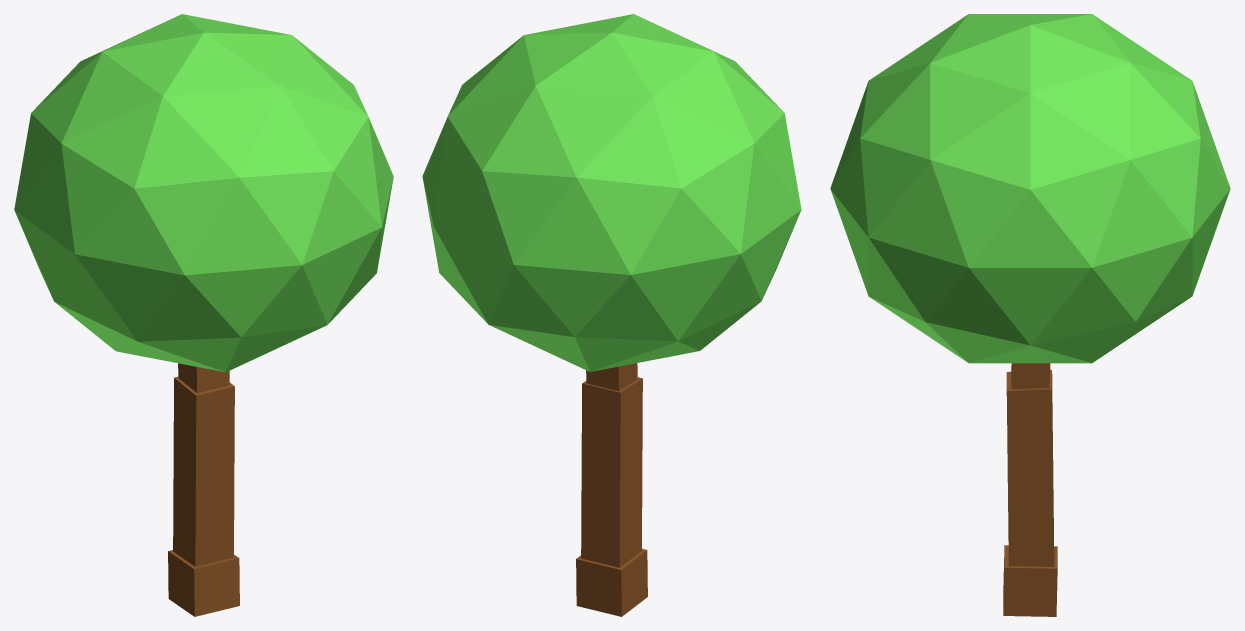
File: Tree2.fbx
3 views of the same model, side by side, from view 1: azimuth 30°, elevation 25°; view 2: azimuth 150°, elevation 25°; view 3: azimuth 270°, elevation 25° (orthographic).
Visible parts, largest first — view 1: Tree2; view 2: Tree2; view 3: Tree2.
Boxes of the visible parts, x1,y1,x2,y2 form: Tree2: (14, 14, 393, 616); Tree2: (422, 14, 801, 616); Tree2: (830, 14, 1230, 616).
Size of the model in its own units: 887 by 1516 by 947.
